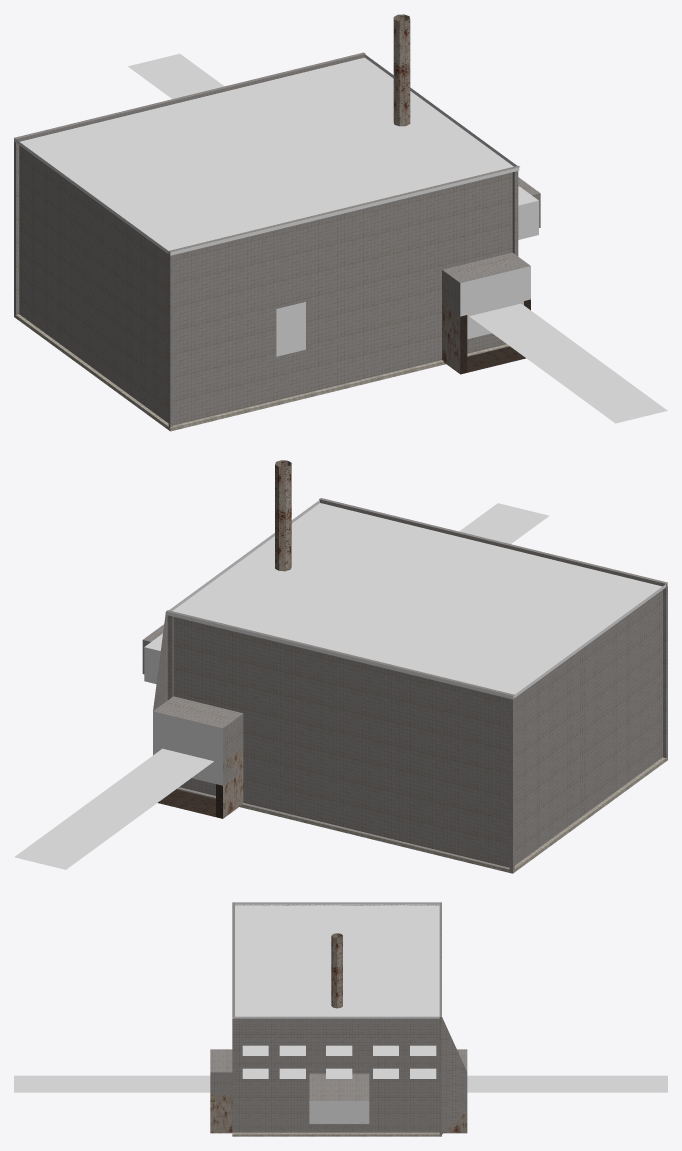
The model's file is [Job]ThrashSorting.fbx.
3 renders of one model, top to bottom at view 1: azimuth 30°, elevation 25°; view 2: azimuth 150°, elevation 25°; view 3: azimuth 270°, elevation 25°, orthographic. The views are drawn at different scales.
Visible parts, largest first — view 1: Cube.003, Cube.001, Cube.005, Plane, Cube.002, Cube.006, Cube, Hammer, Cube.007, TV.003, Cube.004; view 2: Cube.002, Cube.001, Cube.005, Plane, Cube.003, Cube.006, Cube, Hammer, Cube.004, TV.002; view 3: Cube.001, Cube.004, Plane, Cube.002, Cube.003, Cube, Cube.006, Hammer, TV, TV.002, TV.003, TV.004 (+1 smaller).
Boxes of the visible parts, x1=… form: Cube.003: x1=168, y1=165, x2=530, y2=427; Cube.001: x1=14, y1=54, x2=519, y2=255; Cube.005: x1=19, y1=145, x2=172, y2=426; Plane: x1=128, y1=53, x2=667, y2=423; Cube.002: x1=14, y1=52, x2=365, y2=314; Cube.006: x1=14, y1=314, x2=509, y2=431; Cube: x1=442, y1=299, x2=530, y2=374; Hammer: x1=393, y1=14, x2=410, y2=126; Cube.007: x1=276, y1=302, x2=305, y2=356; TV.003: x1=518, y1=186, x2=538, y2=239; Cube.004: x1=512, y1=171, x2=540, y2=255; Cube.002: x1=153, y1=610, x2=514, y2=869; Cube.001: x1=167, y1=500, x2=667, y2=699; Cube.005: x1=509, y1=590, x2=662, y2=873; Plane: x1=14, y1=503, x2=549, y2=869; Cube.003: x1=319, y1=498, x2=667, y2=757; Cube.006: x1=176, y1=757, x2=667, y2=873; Cube: x1=158, y1=747, x2=243, y2=818; Hammer: x1=275, y1=460, x2=291, y2=571; Cube.004: x1=142, y1=615, x2=173, y2=698; TV.002: x1=144, y1=633, x2=162, y2=683; Cube.001: x1=232, y1=902, x2=439, y2=1018; Cube.004: x1=232, y1=1018, x2=439, y2=1132; Plane: x1=14, y1=1075, x2=667, y2=1092; Cube.002: x1=439, y1=902, x2=467, y2=1134; Cube.003: x1=210, y1=902, x2=234, y2=1134; Cube: x1=210, y1=1094, x2=467, y2=1133; Cube.006: x1=232, y1=1132, x2=441, y2=1136; Hammer: x1=331, y1=933, x2=342, y2=1008; TV: x1=326, y1=1045, x2=352, y2=1078; TV.002: x1=410, y1=1045, x2=436, y2=1078; TV.003: x1=242, y1=1045, x2=268, y2=1078; TV.004: x1=279, y1=1045, x2=305, y2=1078.
Bounding box in the file's own units: 26.05 × 16.48 × 51.42.
